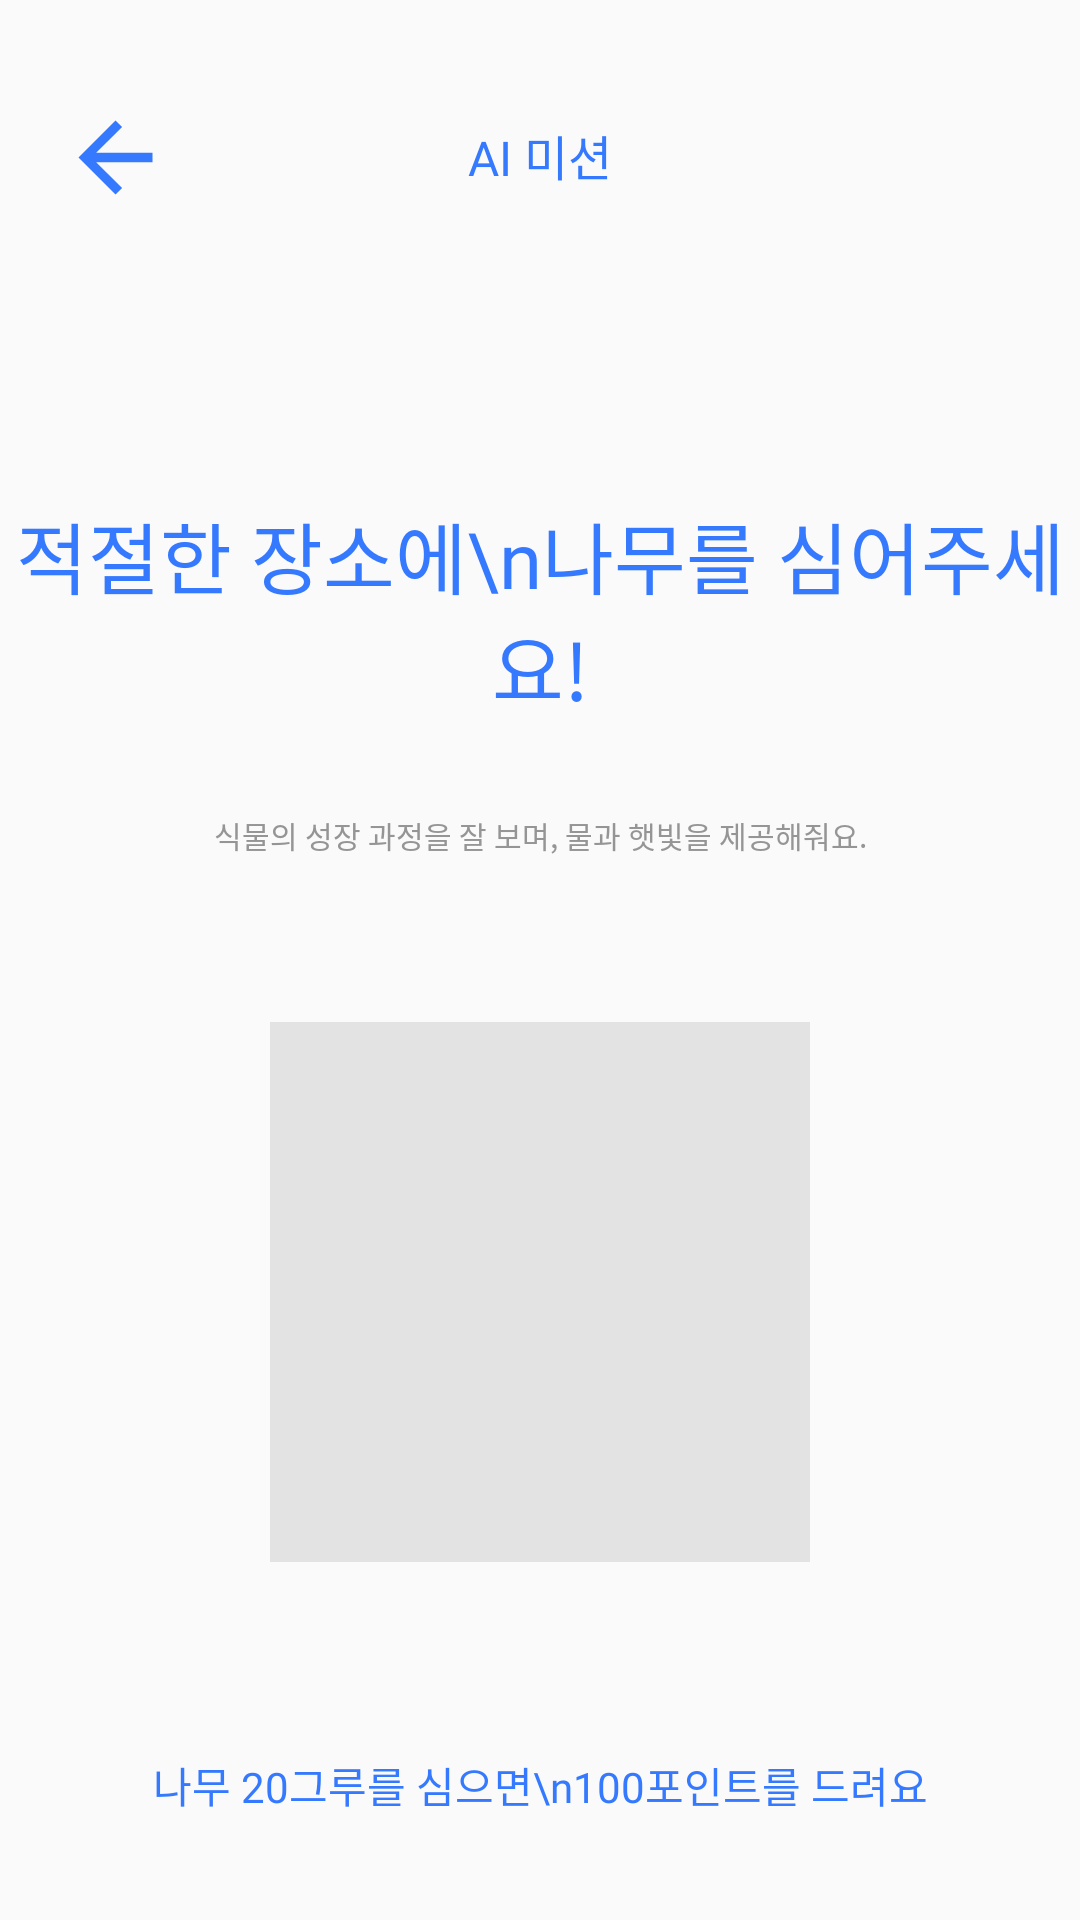

Icon bounding boxes for this 1080 × 1920 phone screenshot, format box=[x1, y1, x2, y2]:
영화 상세 뒤로가기 버튼: box=[78, 120, 153, 195]
